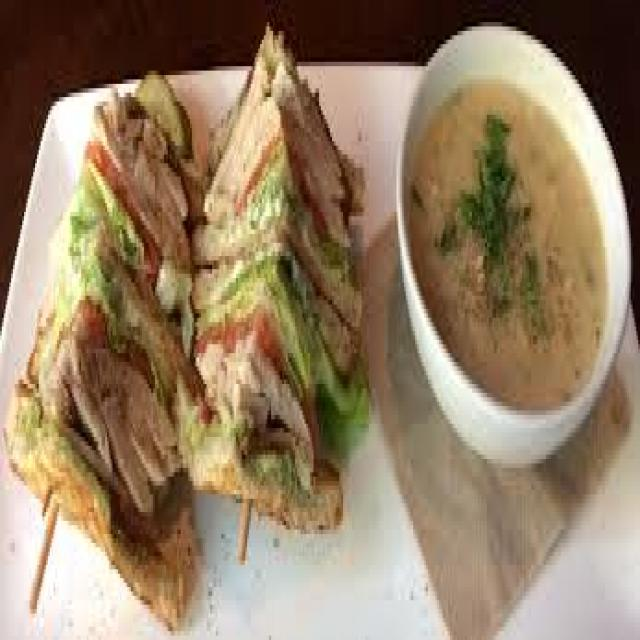Sandwich: (20, 9, 380, 596)
